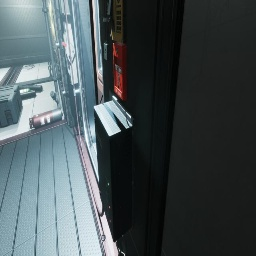0: (20, 88, 34, 94)
EmergencyPhone ,: (107, 0, 127, 43)
FireAlarm ,: (113, 41, 127, 101)
NitrogenTank ,: (29, 108, 62, 129)
SafetySwitchPanel ,: (62, 21, 78, 85)
